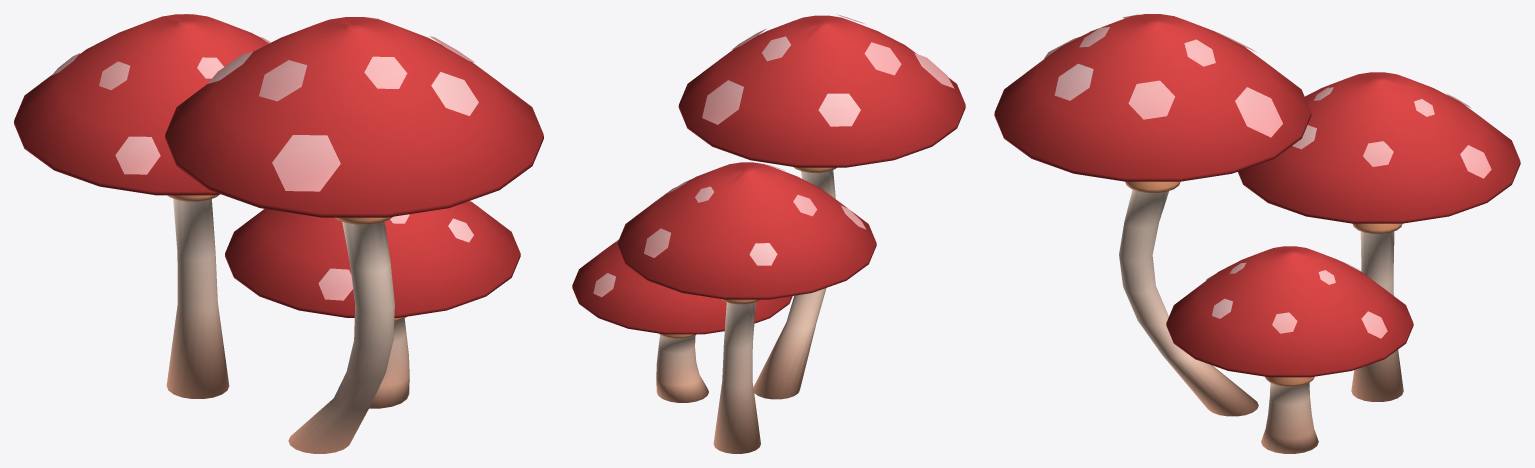
File: Mushroom_Triple_01.fbx
3 renders of one model, left to right at view 1: azimuth 30°, elevation 25°; view 2: azimuth 150°, elevation 25°; view 3: azimuth 270°, elevation 25°, orthographic. The views are drawn at different scales.
Visible parts, largest first — view 1: Mushroom_Triple_01; view 2: Mushroom_Triple_01; view 3: Mushroom_Triple_01.
Boxes of the visible parts, bbox=[...] form: Mushroom_Triple_01: bbox=[14, 14, 543, 453]; Mushroom_Triple_01: bbox=[572, 14, 965, 453]; Mushroom_Triple_01: bbox=[994, 14, 1520, 453].
Bounding box in the file's own units: 54.2 × 57.29 × 72.49.
